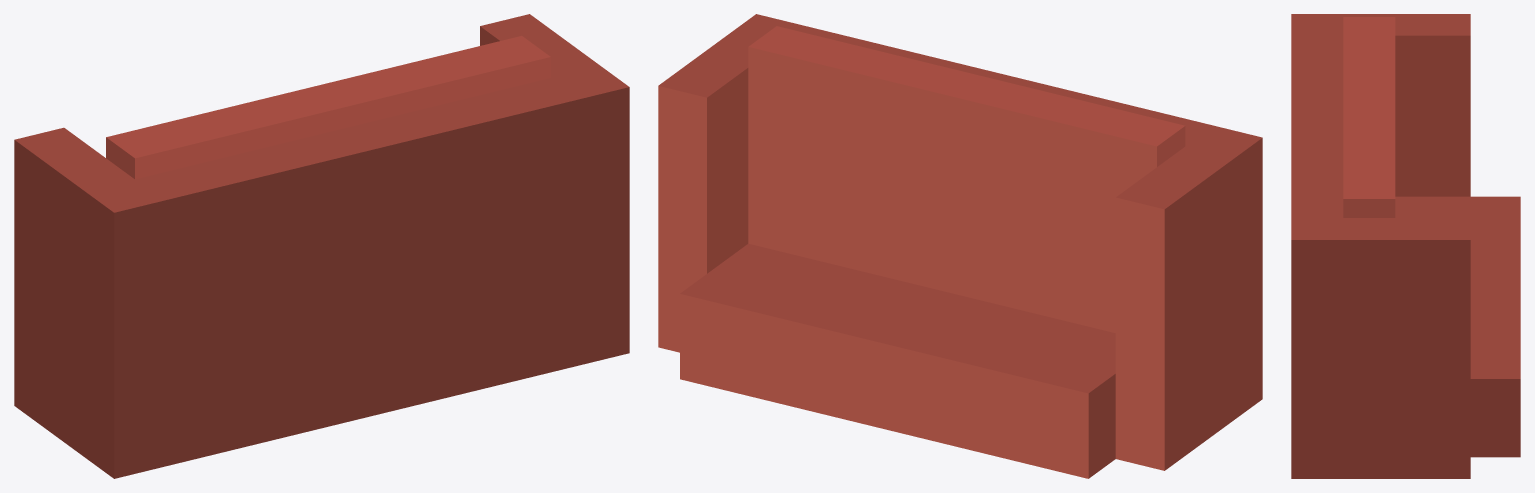
The model's file is Couch4.glb.
3 renders of one model, left to right at view 1: azimuth 30°, elevation 25°; view 2: azimuth 150°, elevation 25°; view 3: azimuth 270°, elevation 25°, orthographic. The views are drawn at different scales.
Parts seen in each view (by area): view 1: SO_Couch_04; view 2: SO_Couch_04; view 3: SO_Couch_04.
Part boxes in pixels (<box>): SO_Couch_04: <box>14,14,629,478</box>; SO_Couch_04: <box>658,14,1262,478</box>; SO_Couch_04: <box>1291,14,1520,478</box>.
Bounding box in the file's own units: 2.88 × 1.53 × 1.23.
1 material, 1 textured.
